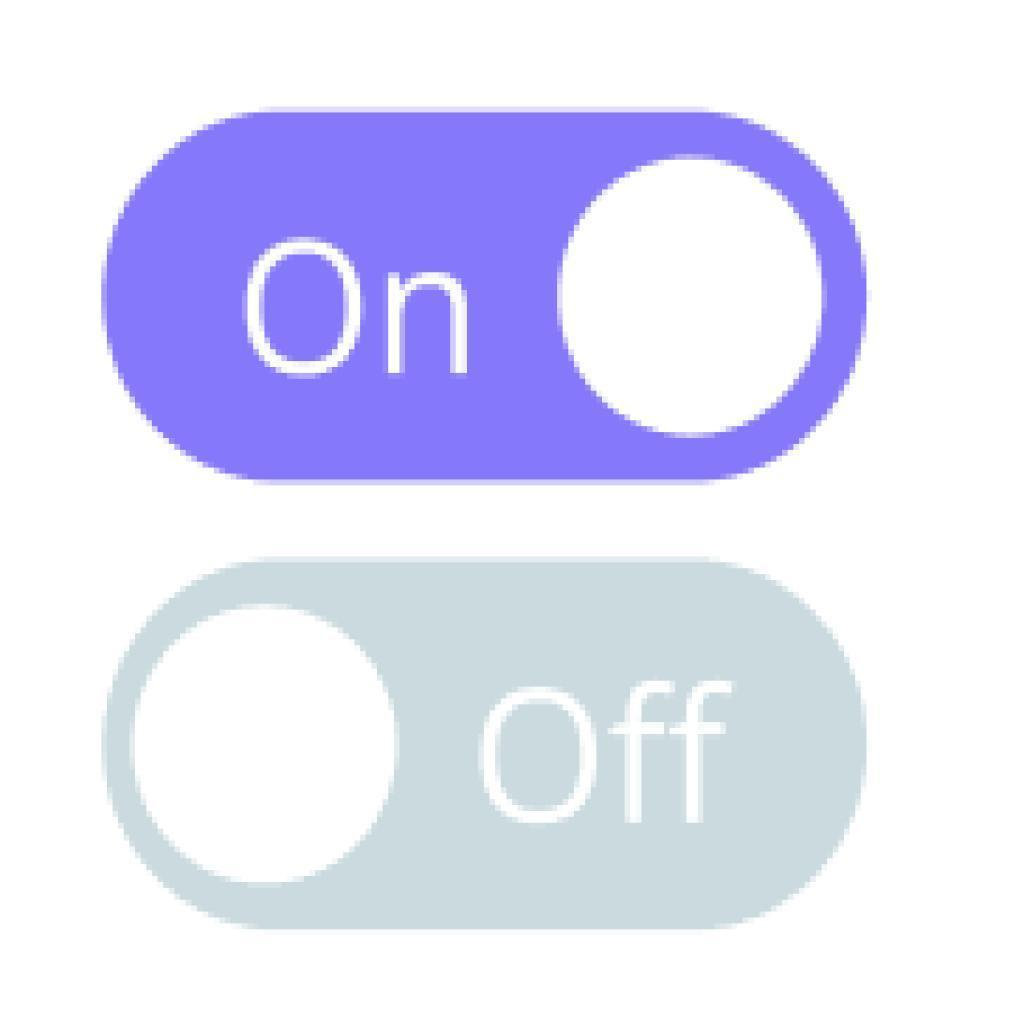switch: (100, 551, 876, 934), (101, 110, 862, 481)
